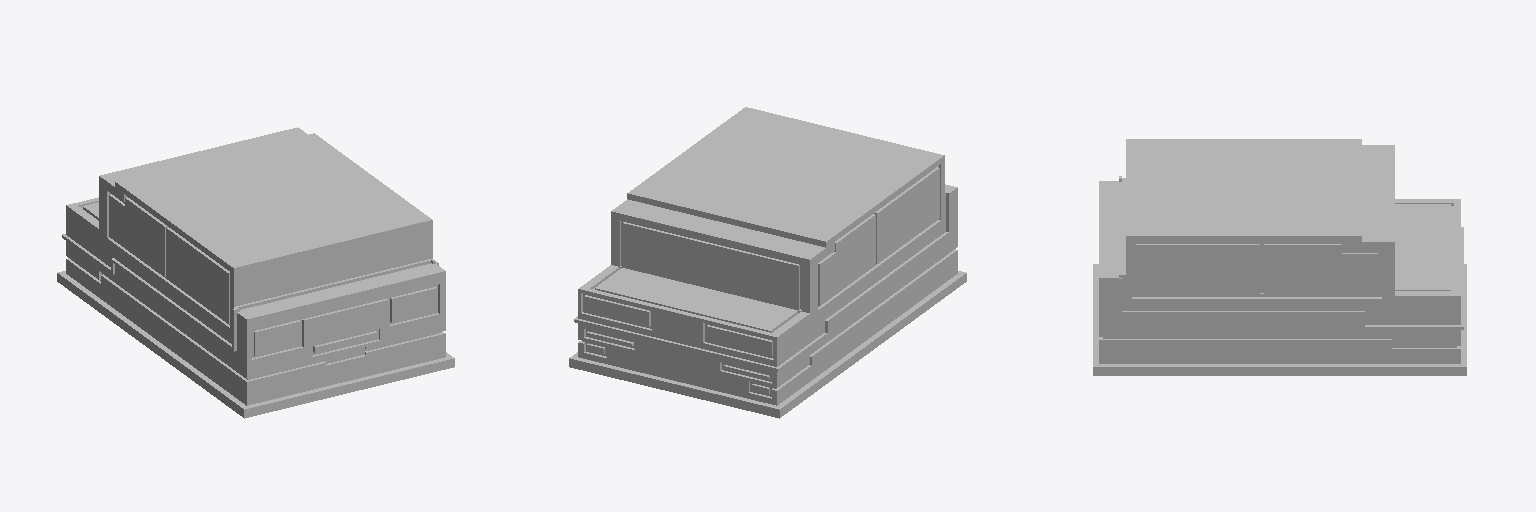
Rendered from cybertruck obj.obj.
3 views of the same model, side by side, from view 1: azimuth 30°, elevation 25°; view 2: azimuth 150°, elevation 25°; view 3: azimuth 270°, elevation 25° (orthographic).
Visible parts, largest first — view 1: object 1; view 2: object 1; view 3: object 1.
Part boxes in pixels (bbox=[...]): object 1: bbox=[57, 127, 454, 418]; object 1: bbox=[569, 107, 966, 418]; object 1: bbox=[1093, 139, 1466, 375].
Bounding box in the file's own units: 7.4 × 4.6 × 11.4.